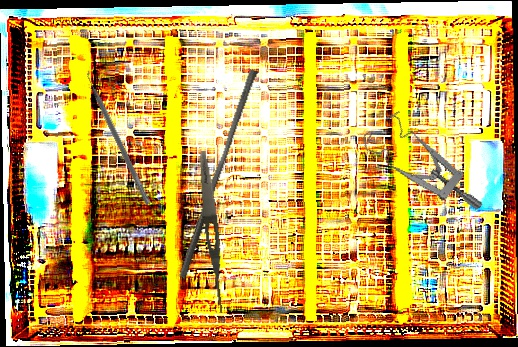Dressing Forceps: (195, 150, 230, 314)
Pusher: (178, 66, 259, 282)
Spatula Surgical: (81, 68, 157, 206)
Speculum: (356, 96, 485, 243)
